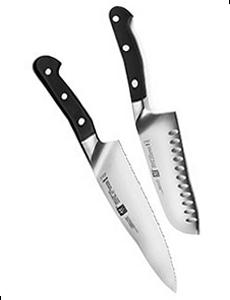knife: (31, 55, 178, 292), (107, 5, 199, 234)
